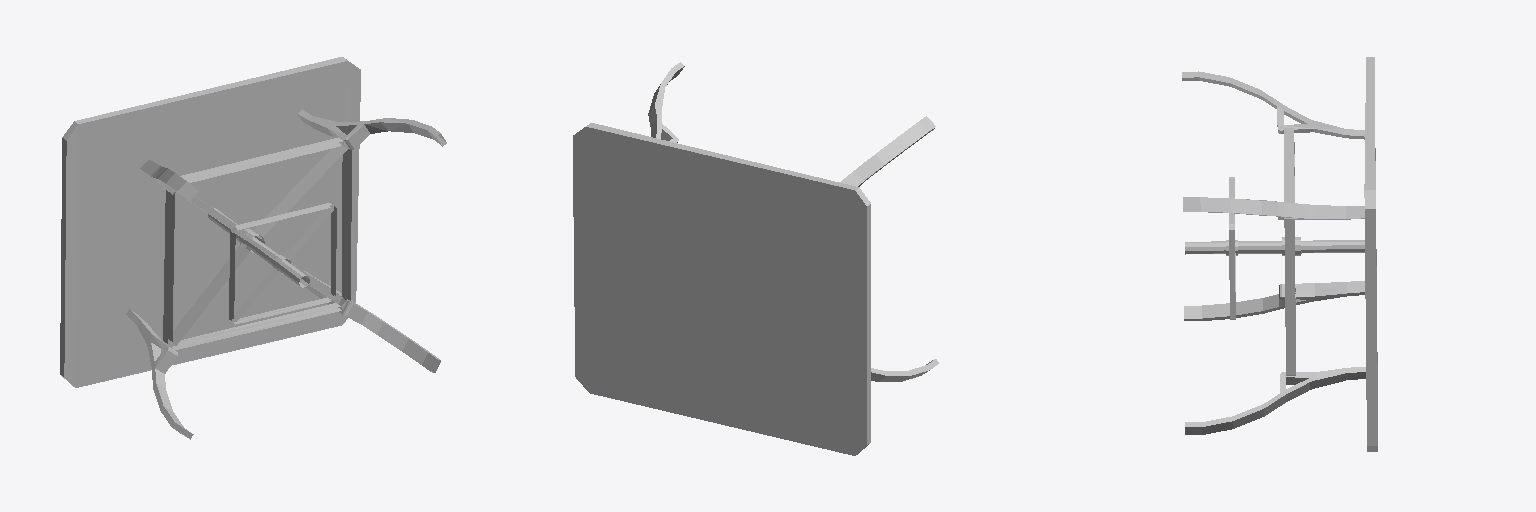
File: table_test.obj
3 views of the same model, side by side, from view 1: azimuth 30°, elevation 25°; view 2: azimuth 150°, elevation 25°; view 3: azimuth 270°, elevation 25° (orthographic).
Visible parts, largest first — view 1: Table_1_Untitled; view 2: Table_1_Untitled; view 3: Table_1_Untitled.
Part boxes in pixels (left/top/right/bottom): Table_1_Untitled: left=60, top=57, right=446, bottom=439; Table_1_Untitled: left=573, top=62, right=938, bottom=455; Table_1_Untitled: left=1182, top=57, right=1377, bottom=451.
Bounding box in the file's own units: 9.67 × 8.33 × 5.59.